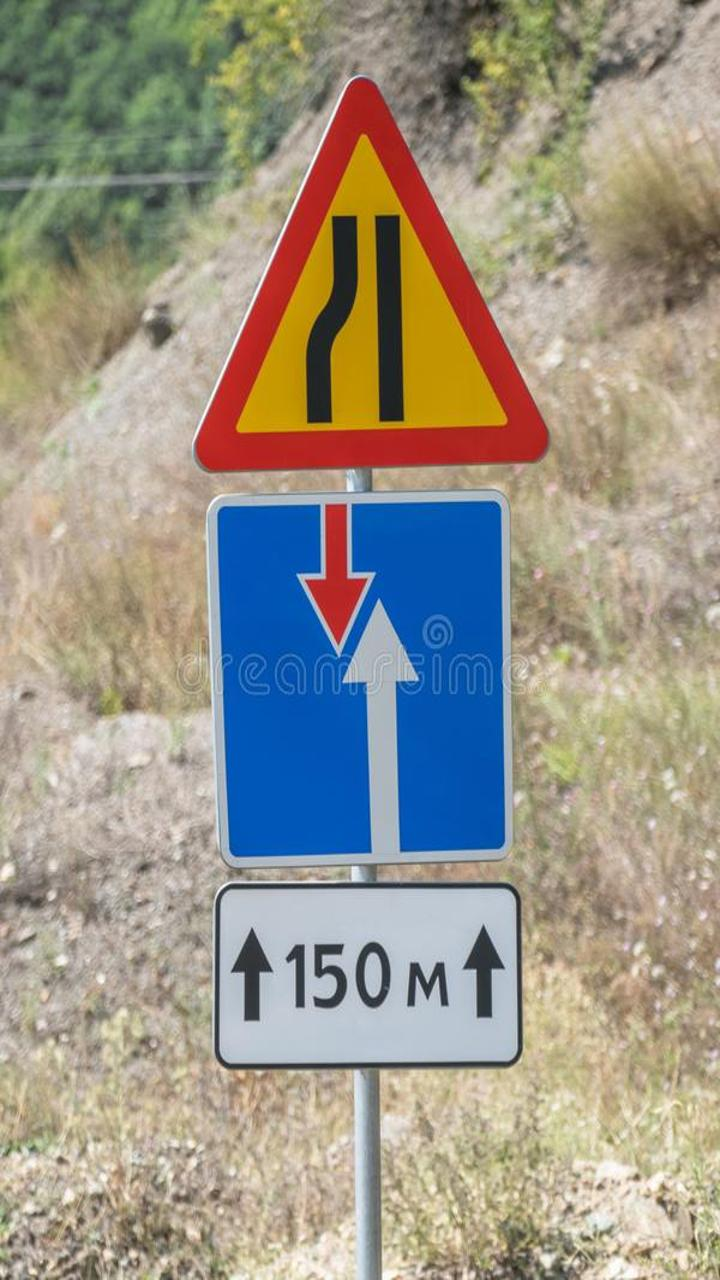Traffic sign: (159, 67, 575, 488), (174, 496, 574, 887), (190, 871, 532, 1080)
